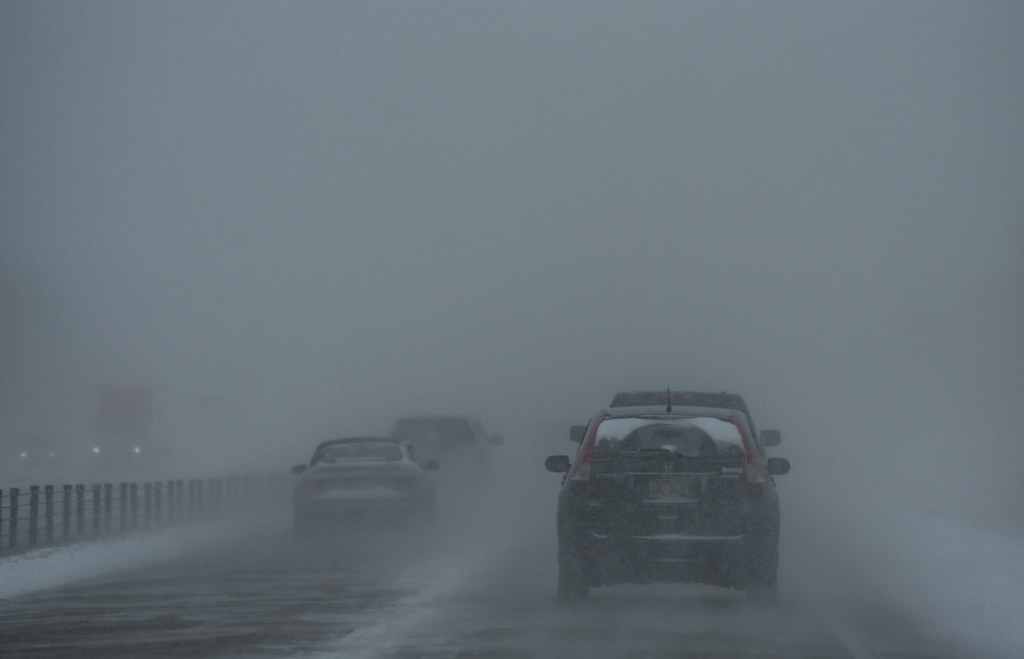car: (546, 405, 788, 595), (568, 387, 784, 456), (290, 436, 440, 528), (389, 415, 496, 484), (18, 433, 65, 466)
truck: (85, 380, 160, 480)
